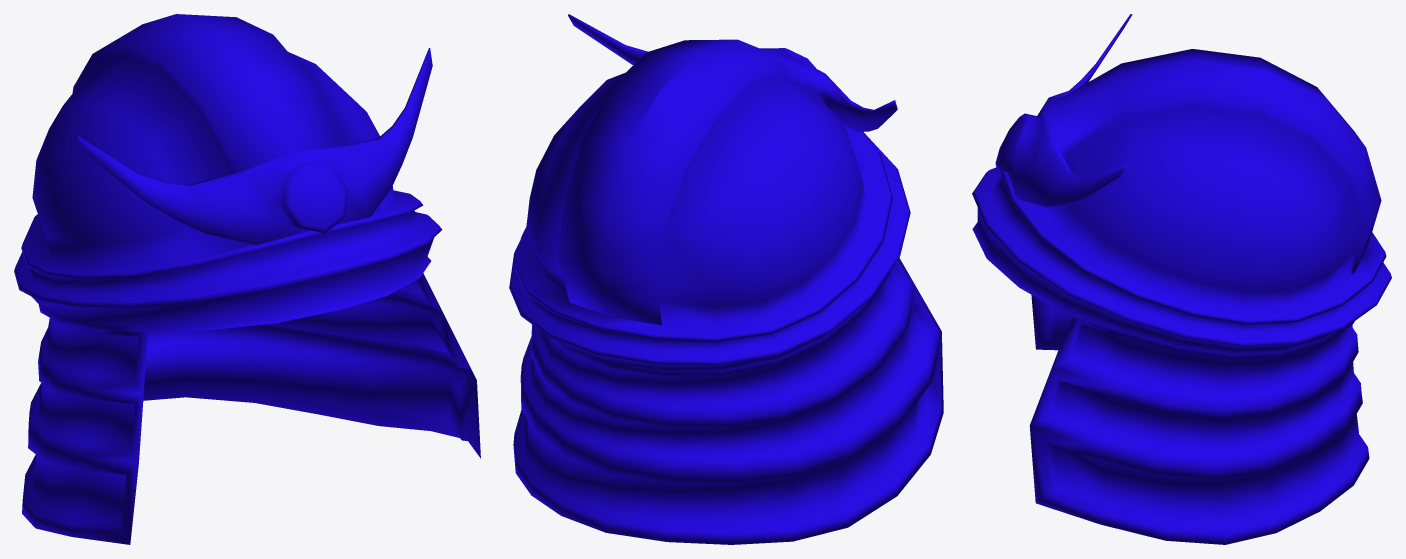
Rendered from SamuraiHelmet.fbx.
The picture shows the model from 3 angles, left to right: view 1: azimuth 30°, elevation 25°; view 2: azimuth 150°, elevation 25°; view 3: azimuth 270°, elevation 25°; orthographic projection. The views are drawn at different scales.
Parts seen in each view (by area): view 1: Samurai Helmet; view 2: Samurai Helmet; view 3: Samurai Helmet.
Part boxes in pixels (x1,y1,x2,y2): Samurai Helmet: (14,14,480,544); Samurai Helmet: (509,14,943,544); Samurai Helmet: (972,14,1391,544).
Bounding box in the file's own units: 75.88 × 82.78 × 77.27.
